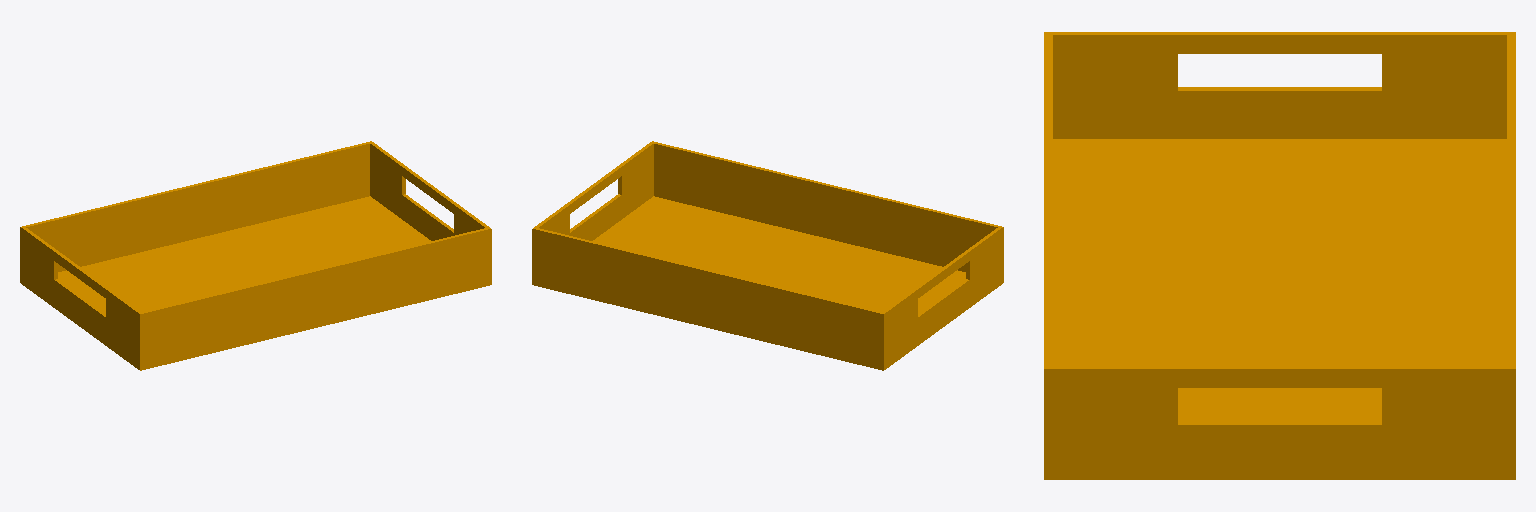
robot.urdf — Tray:
<?xml version="1.0" ?>
<robot name="Tray">

<material name="silver">
  <color rgba="0.59 0.39 0.20 1.000"/>
</material>

<link name="base_link">
  <inertial>
    <origin xyz="1.474116824273432e-16 -5.896467297093729e-17 0.014346152848733229" rpy="0 0 0"/>
    <mass value="5.843261600000017"/>
    <inertia ixx="0.034612862052769776" iyy="0.07906784160476914" izz="0.11052175860106632" ixy="1.8277205526828759e-16" iyz="2.5889046815334736e-17" ixz="-2.4027276607507167e-17"/>
  </inertial>
  <visual>
    <origin xyz="0 0 0" rpy="0 0 0"/>
    <geometry>
      <mesh filename="meshes/base_link.stl" scale="0.001 0.001 0.001"/>
    </geometry>
    <material name="silver"/>
    <material/>
  </visual>
  <collision concave="yes">
    <origin xyz="0 0 0" rpy="0 0 0"/>
    <geometry>
      <mesh filename="meshes/base_link.stl" scale="0.001 0.001 0.001"/>
    </geometry>
    <contact>
      <soft_cfm value="0.0"/>
      <soft_erp value="0.2"/>
  </contact>
  </collision>
</link>

</robot>

--- Facts derived from the render (not from the file) ---
The picture shows the robot from 3 angles, left to right: view 1: azimuth 30°, elevation 25°; view 2: azimuth 150°, elevation 25°; view 3: azimuth 270°, elevation 25°; orthographic projection.
Robot: Tray — 1 links, 0 joints (none); root link base_link; default pose: all joints at 0.
Links seen in each view (by area): view 1: base_link; view 2: base_link; view 3: base_link.
Boxes of the visible links, x1,y1,x2,y2 form: base_link: (20, 141, 491, 370); base_link: (532, 141, 1003, 370); base_link: (1044, 32, 1515, 479).
Bounding box of the posed robot: 0.39 × 0.23 × 0.06 m (x, y, z).
Meshes: 1 distinct files referenced, 1 mesh visuals loaded (1 binary STL).